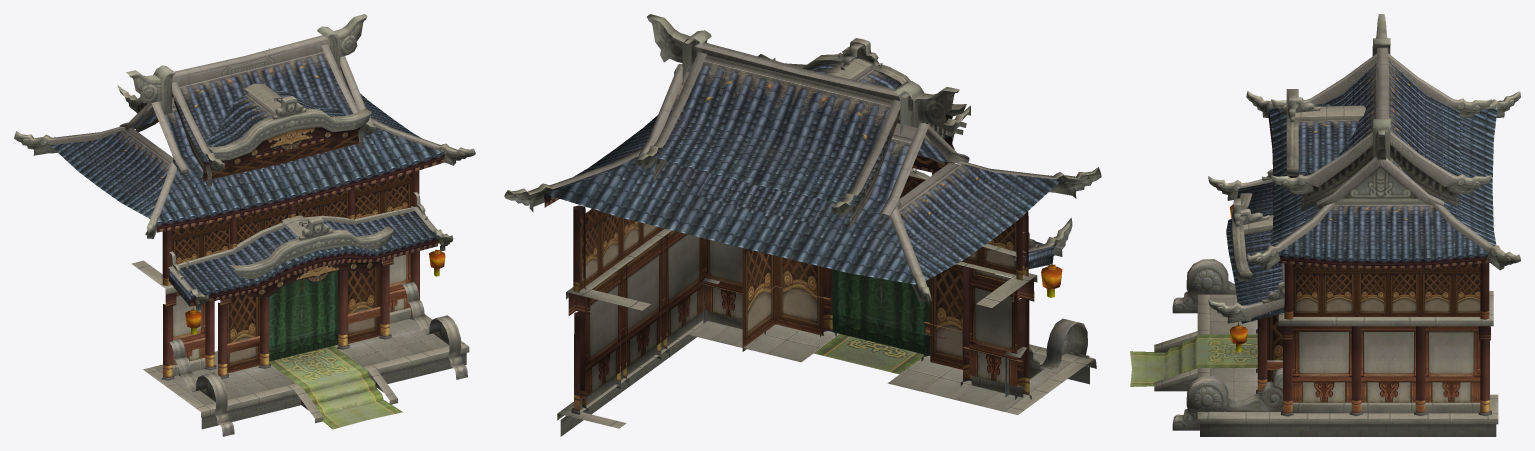
The model's file is cj_luoyang_minju03_55_28_0540out.fbx.
3 renders of one model, left to right at view 1: azimuth 30°, elevation 25°; view 2: azimuth 150°, elevation 25°; view 3: azimuth 270°, elevation 25°, orthographic. The views are drawn at different scales.
Parts seen in each view (by area): view 1: 0000_cj_luoyang_minju03, 0001_cj_luoyang_minju03; view 2: 0000_cj_luoyang_minju03, 0001_cj_luoyang_minju03; view 3: 0000_cj_luoyang_minju03, 0001_cj_luoyang_minju03.
Boxes of the visible parts, left/top/right/bottom form: 0000_cj_luoyang_minju03: left=14, top=14, right=475, bottom=429; 0001_cj_luoyang_minju03: left=169, top=270, right=467, bottom=436; 0000_cj_luoyang_minju03: left=504, top=14, right=1101, bottom=436; 0001_cj_luoyang_minju03: left=703, top=269, right=1096, bottom=397; 0000_cj_luoyang_minju03: left=1154, top=14, right=1520, bottom=436; 0001_cj_luoyang_minju03: left=1130, top=259, right=1282, bottom=430.
Size of the model in its own units: 10.91 by 9.09 by 10.85.
